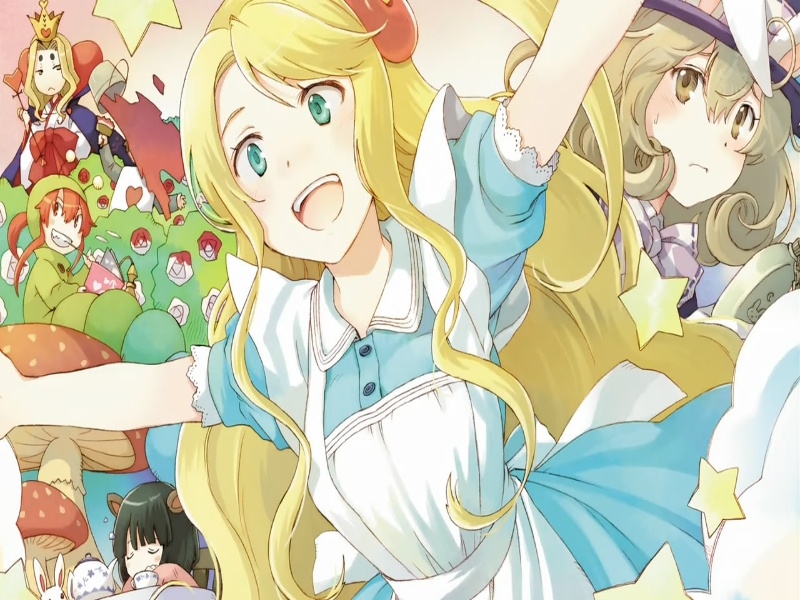person: (183, 46, 410, 270), (627, 46, 781, 221), (110, 514, 181, 583), (35, 188, 93, 256), (23, 42, 79, 103)
